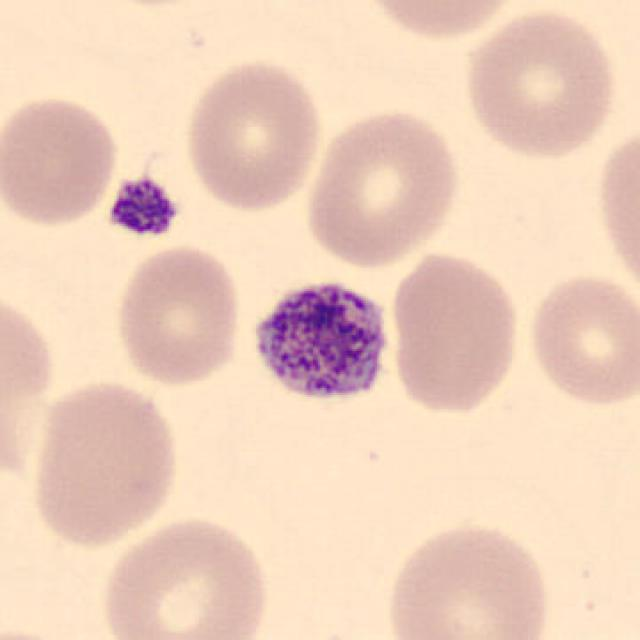Platelets: (240, 264, 400, 422), (103, 174, 181, 240)
RBC: (23, 376, 185, 550), (300, 104, 464, 272), (459, 5, 622, 162), (386, 247, 526, 418), (180, 53, 326, 213), (94, 511, 274, 640), (380, 518, 556, 640), (110, 240, 247, 390), (0, 90, 123, 229), (523, 268, 638, 411), (0, 282, 60, 486), (590, 116, 638, 302), (352, 0, 530, 44), (2, 620, 98, 640)
